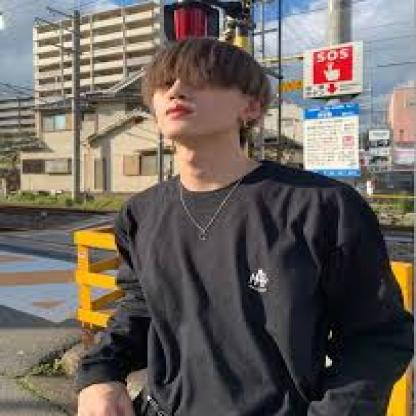person: (141, 42, 265, 159)
